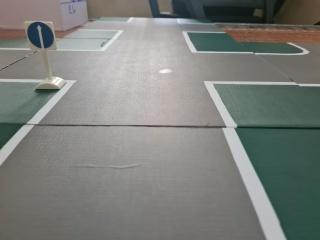straight: (25, 20, 58, 50)
